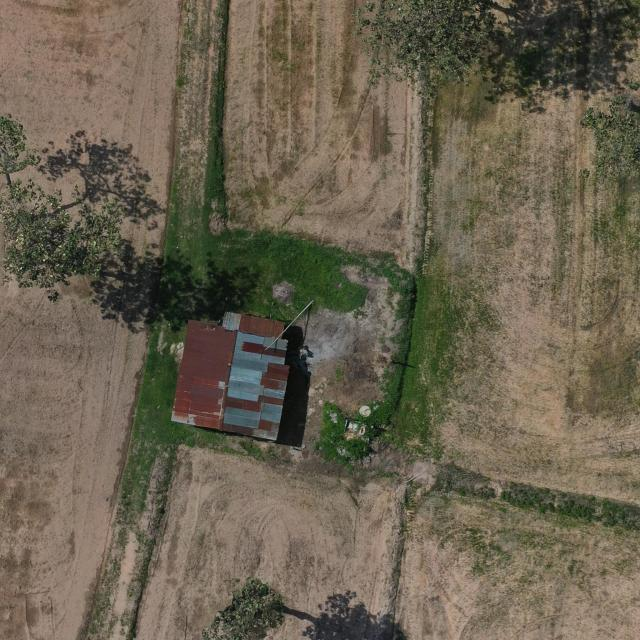Tree: (354, 0, 498, 102), (0, 179, 124, 292), (199, 576, 288, 640), (0, 114, 42, 176)
